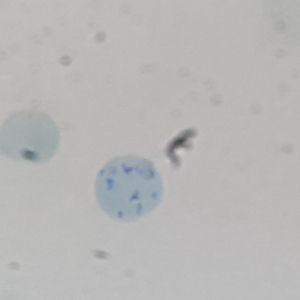aggregate reticulocyte: (92, 153, 165, 222)
erythrocyte: (1, 107, 62, 163)
